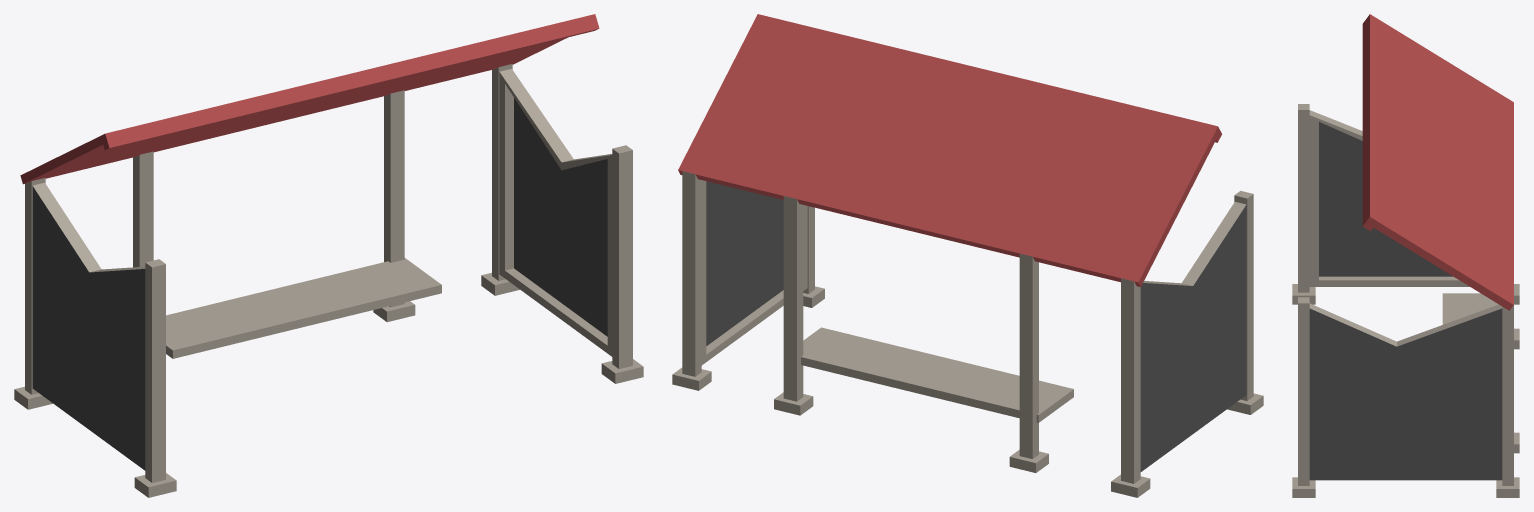
File: BusStation.fbx
3 renders of one model, left to right at view 1: azimuth 30°, elevation 25°; view 2: azimuth 150°, elevation 25°; view 3: azimuth 270°, elevation 25°, orthographic. The views are drawn at different scales.
Parts seen in each view (by area): view 1: BusStation; view 2: BusStation; view 3: BusStation.
Boxes of the visible parts, x1,y1,x2,y2 form: BusStation: [14, 14, 643, 497]; BusStation: [672, 14, 1263, 497]; BusStation: [1292, 14, 1519, 497].
Size of the model in its own units: 681 by 434 by 320.
